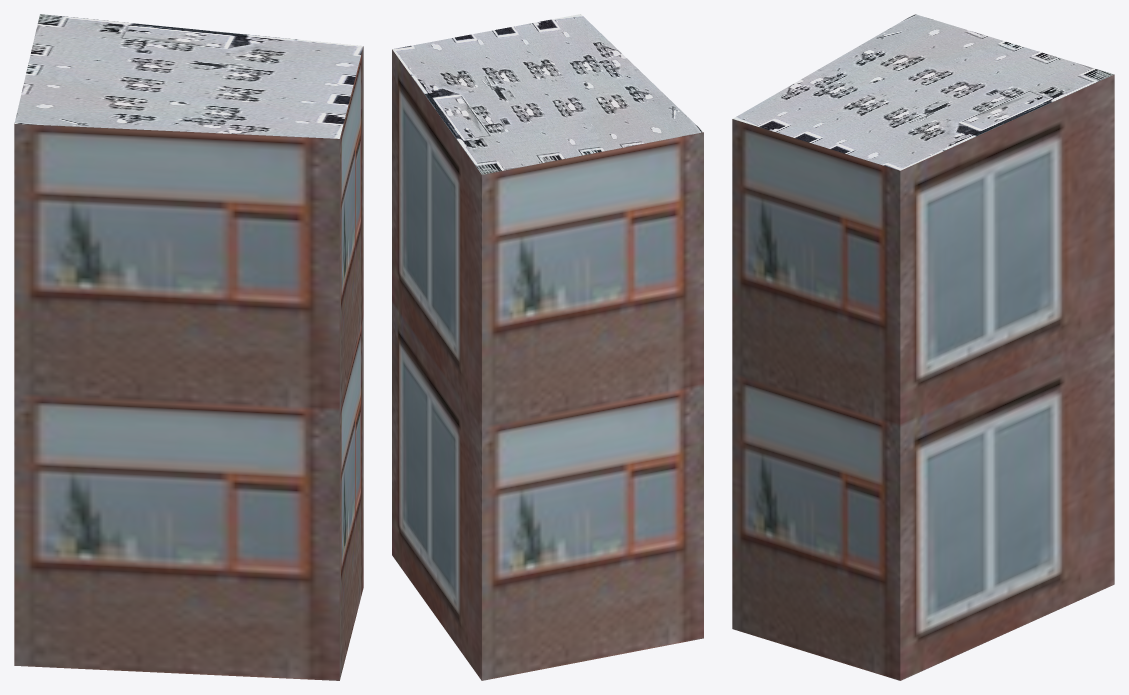
Rendered from ResTex__5044.fbx.
The picture shows the model from 3 angles, left to right: view 1: azimuth 30°, elevation 25°; view 2: azimuth 150°, elevation 25°; view 3: azimuth 270°, elevation 25°; orthographic projection. The views are drawn at different scales.
Visible parts, largest first — view 1: CityEngineMaterial_19_m, CityEngineMaterial_15_m; view 2: CityEngineMaterial_19_m, CityEngineMaterial_15_m; view 3: CityEngineMaterial_19_m, CityEngineMaterial_15_m.
Part boxes in pixels (x1,y1,x2,y2): CityEngineMaterial_19_m: (14,46,363,680); CityEngineMaterial_15_m: (14,14,363,138); CityEngineMaterial_19_m: (392,49,703,680); CityEngineMaterial_15_m: (392,14,703,174); CityEngineMaterial_19_m: (732,74,1114,680); CityEngineMaterial_15_m: (733,14,1113,170).
Size of the model in its own units: 3.96 by 6 by 4.07.
2 materials, 2 textured.
